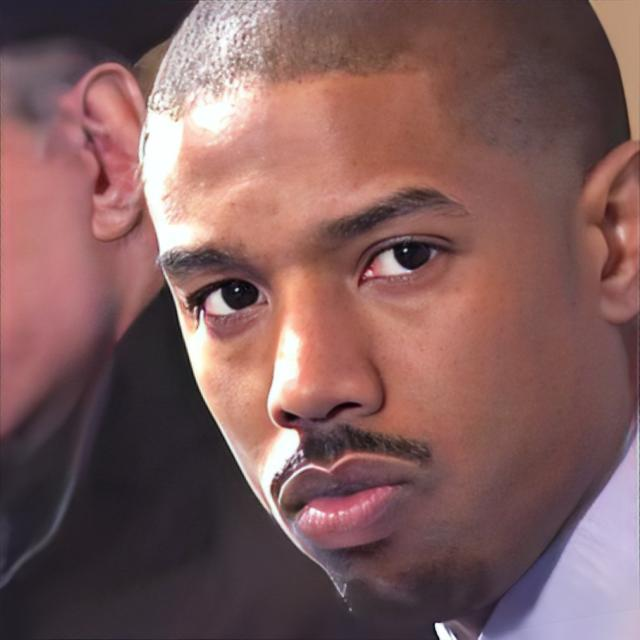neutral: (136, 55, 581, 640)
